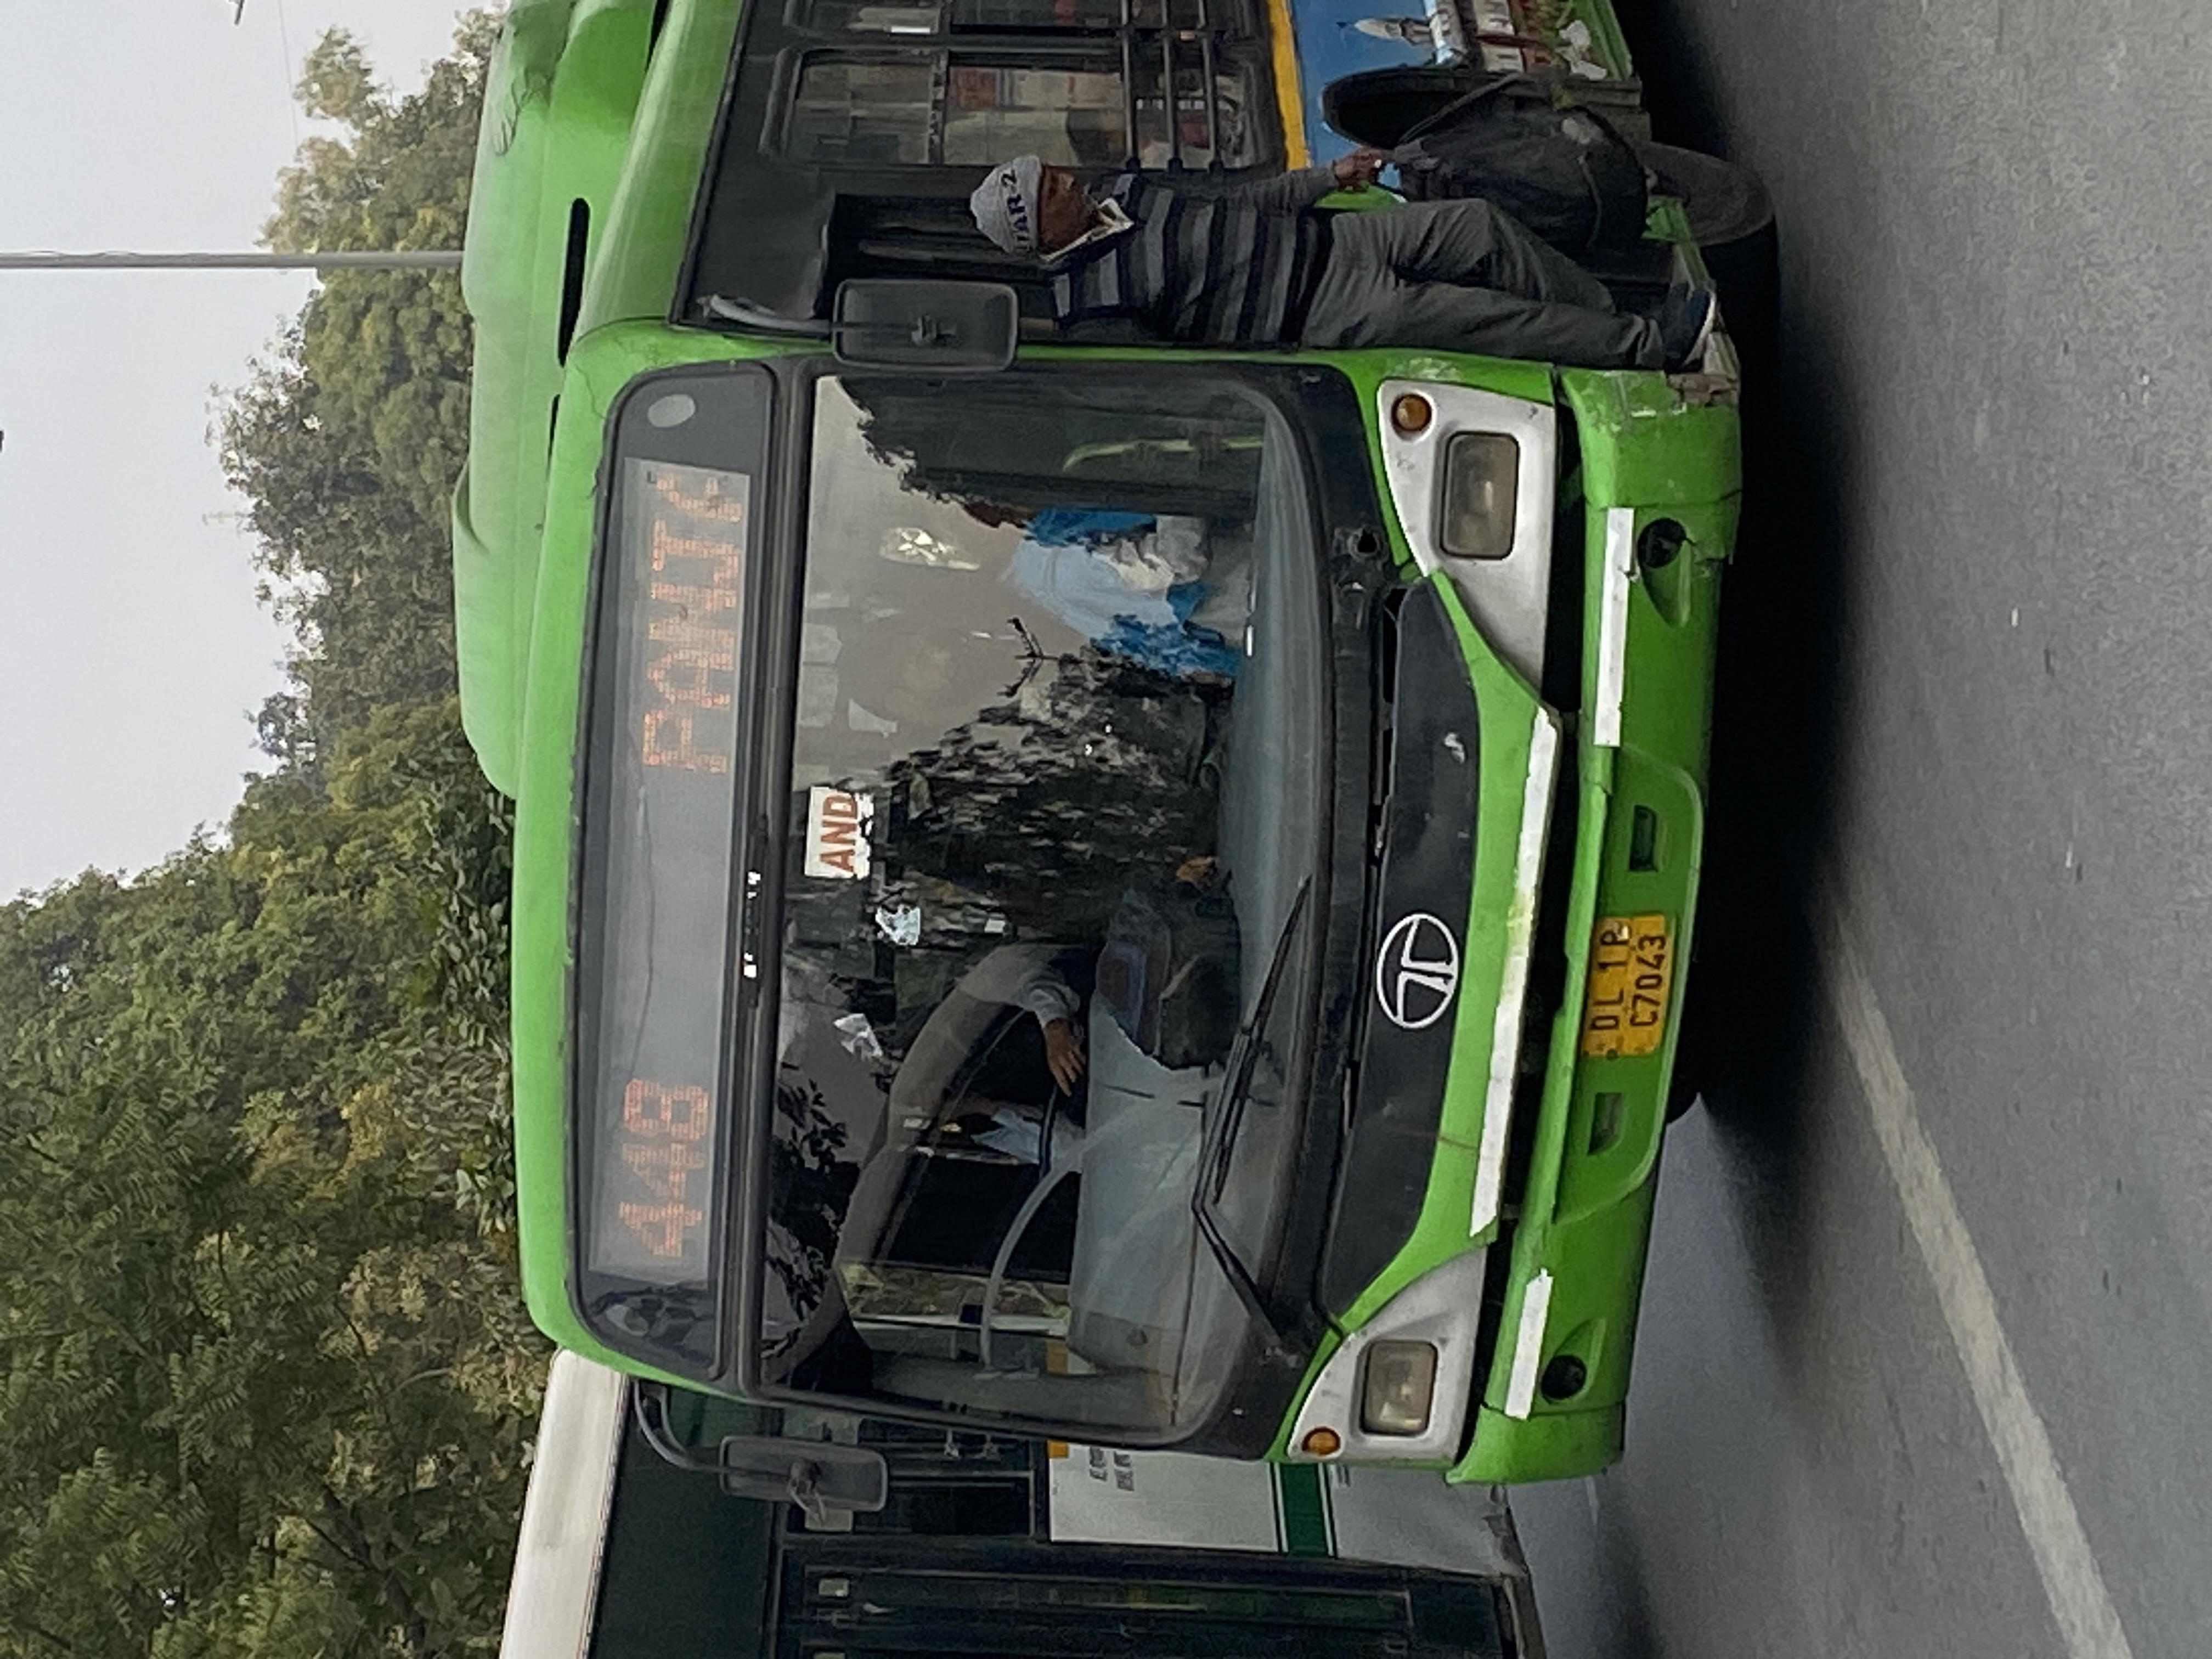Bus: (499, 274, 1734, 1509)
Display Board: (582, 313, 850, 1383)
License Plate: (1585, 872, 1701, 1114)
